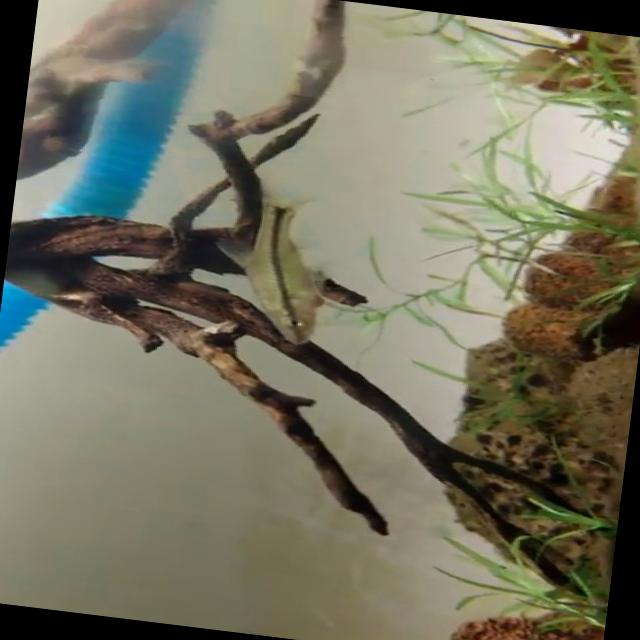Cakil Baligi: (210, 178, 358, 349)
